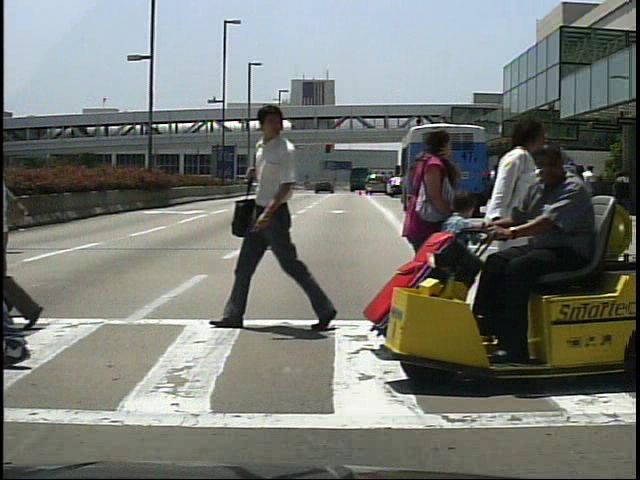person: (484, 143, 614, 375), (463, 109, 565, 365), (221, 101, 327, 342), (396, 124, 461, 355), (0, 133, 75, 327), (436, 188, 480, 319), (582, 163, 602, 218), (499, 166, 517, 219), (493, 164, 512, 213)
